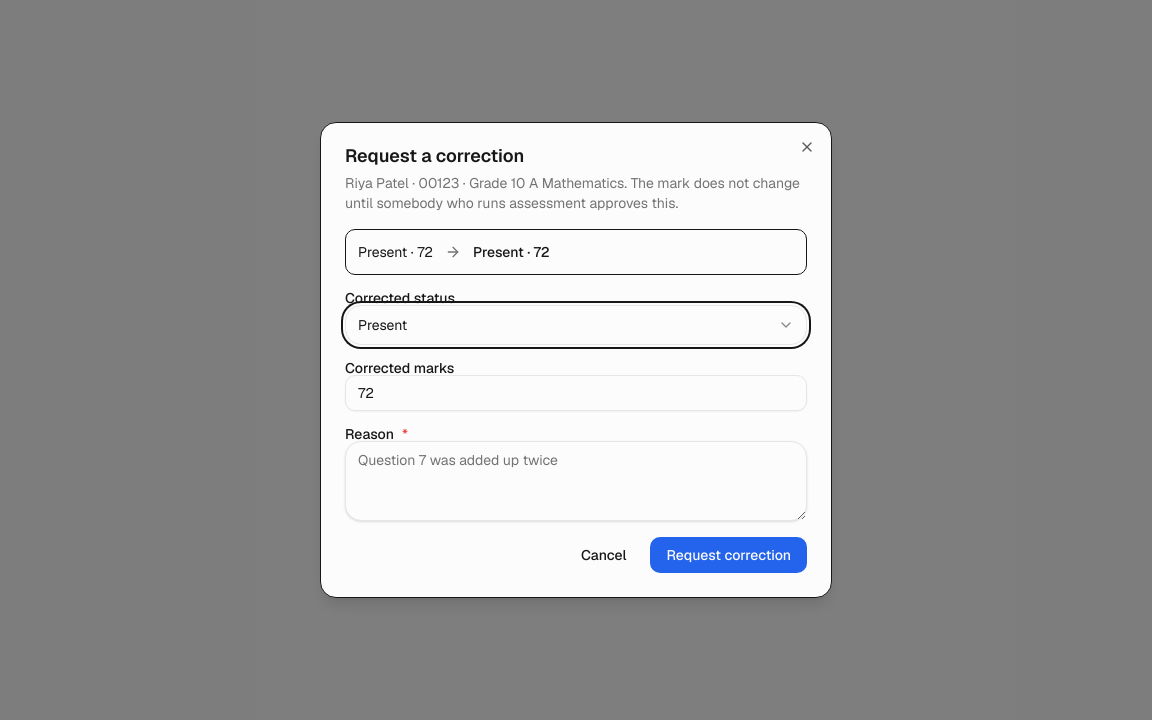
Scenario: requesting a correction › refuses a mark above the paper's maximum before asking the server
Replace the text in the field labelled "Corrected marks" with "150" at (576, 393), box [345,375,807,411]
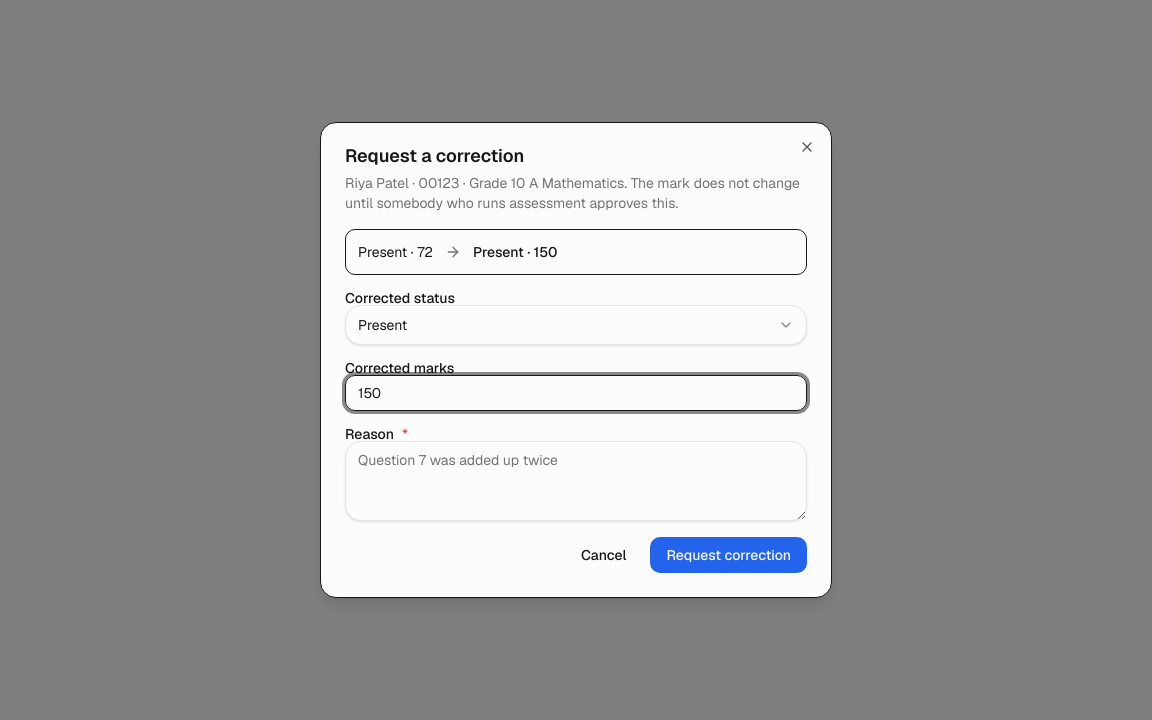
Type "typo" into the text box labelled "Reason *" at (576, 481), box [345,441,807,521]
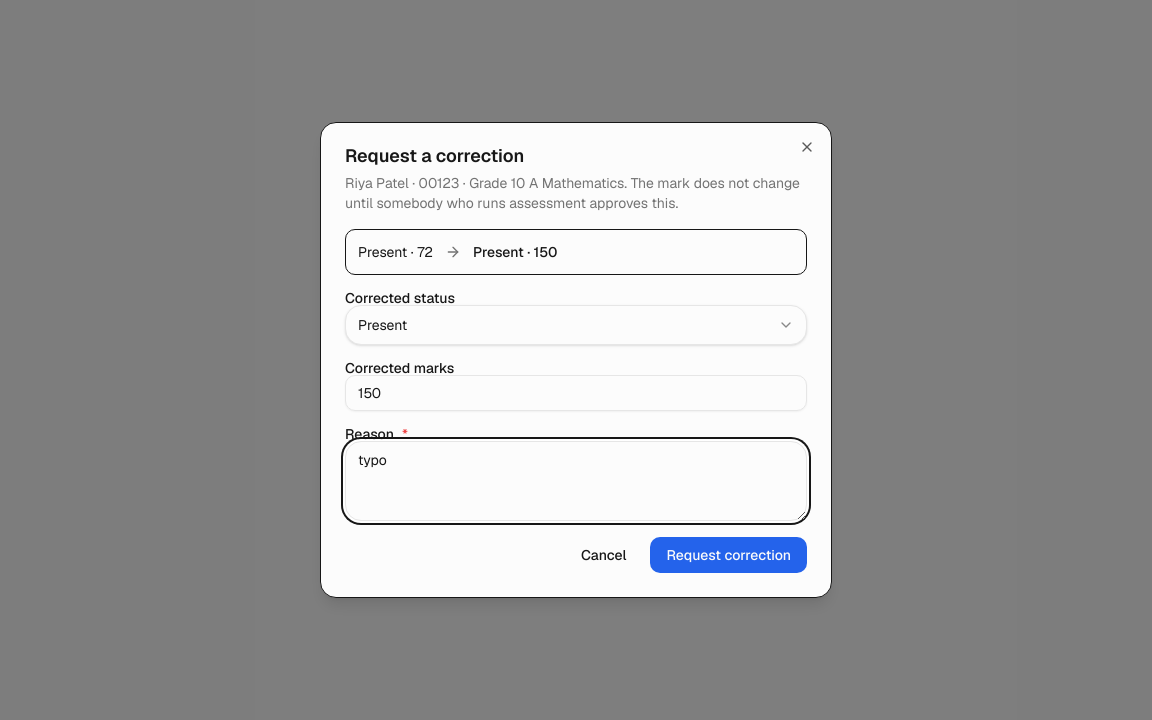
Click the button "Request correction" at (729, 555), box [650,537,807,573]
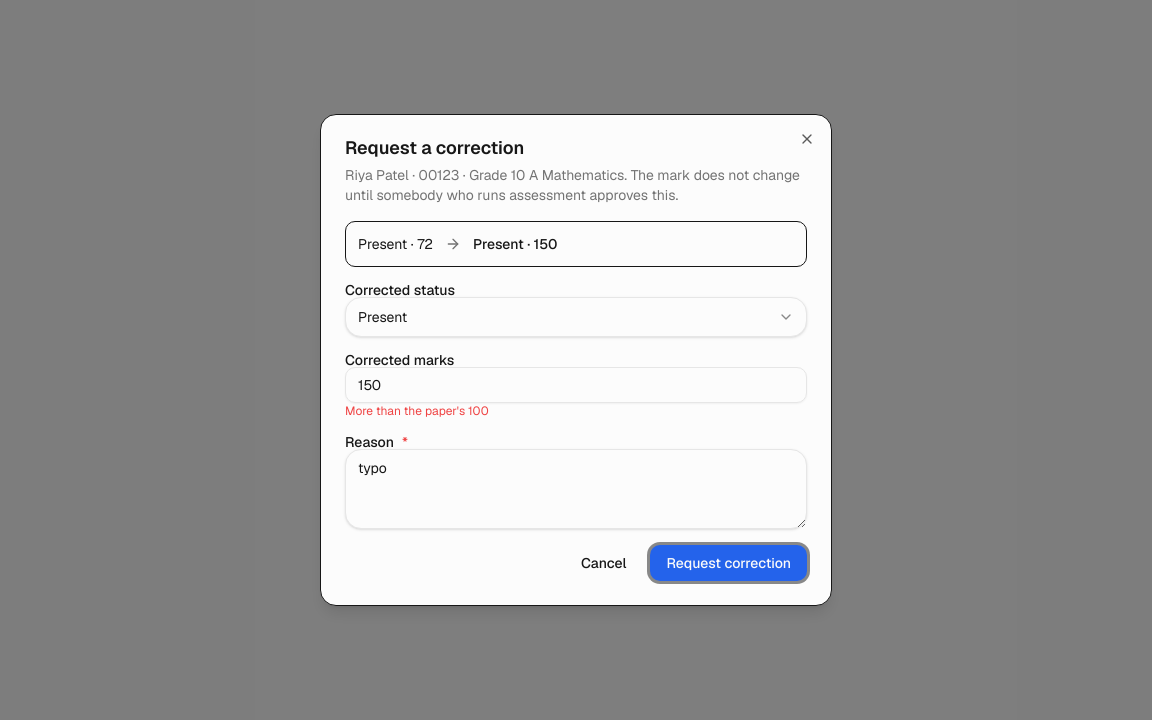
Expected: the text "More than the paper's 100" is shown, [345,403,489,419]
